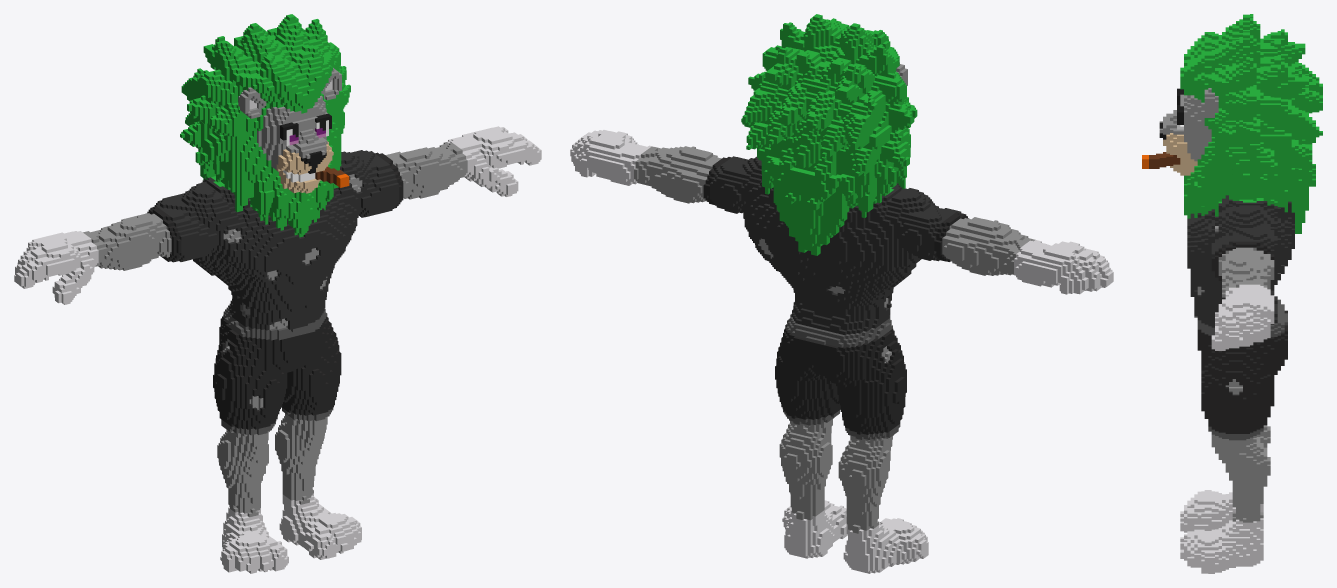
Rendered from 26-B-VRBqSA.glb.
3 renders of one model, left to right at view 1: azimuth 30°, elevation 25°; view 2: azimuth 150°, elevation 25°; view 3: azimuth 270°, elevation 25°, orthographic. The views are drawn at different scales.
Visible parts, largest first — view 1: cigar; view 2: cigar; view 3: cigar.
Boxes of the visible parts, x1,y1,x2,y2 form: cigar: [14, 14, 541, 573]; cigar: [570, 14, 1113, 573]; cigar: [1142, 14, 1322, 573].
Size of the model in its own units: 17.2 by 16.5 by 5.2.
Materials: 5 (5 with a texture image).
